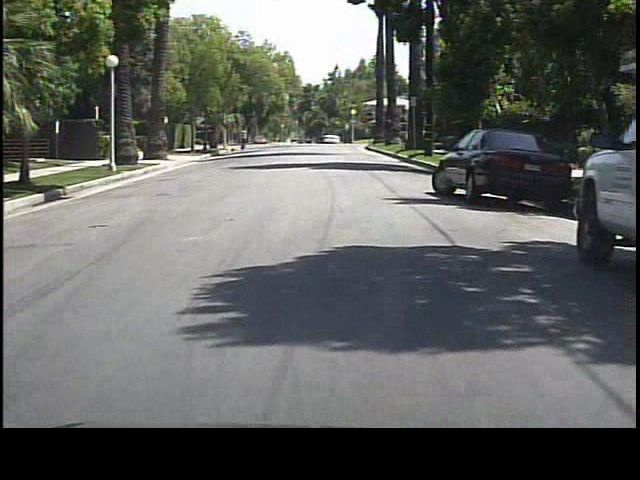person: (239, 127, 252, 155)
